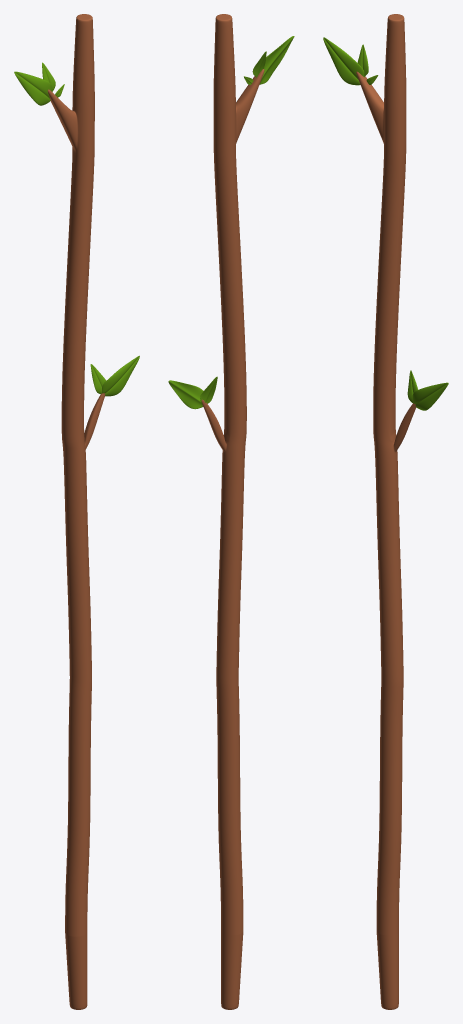
File: Stick2.fbx
3 renders of one model, left to right at view 1: azimuth 30°, elevation 25°; view 2: azimuth 210°, elevation 25°; view 3: azimuth 330°, elevation 25°, orthographic.
Parts seen in each view (by area): view 1: Leaf; view 2: Leaf; view 3: Leaf.
Boxes of the visible parts, x1,y1,x2,y2 form: Leaf: [14, 14, 139, 1009]; Leaf: [168, 14, 294, 1009]; Leaf: [323, 14, 448, 1009].
Bounding box in the file's own units: 61.61 × 464 × 9.5.
